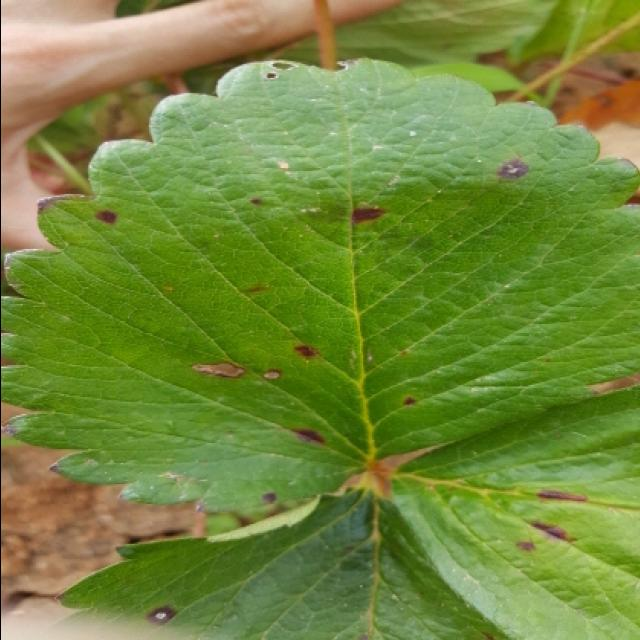Leaf Spot: (2, 57, 640, 515), (41, 470, 510, 638), (389, 383, 640, 638)
